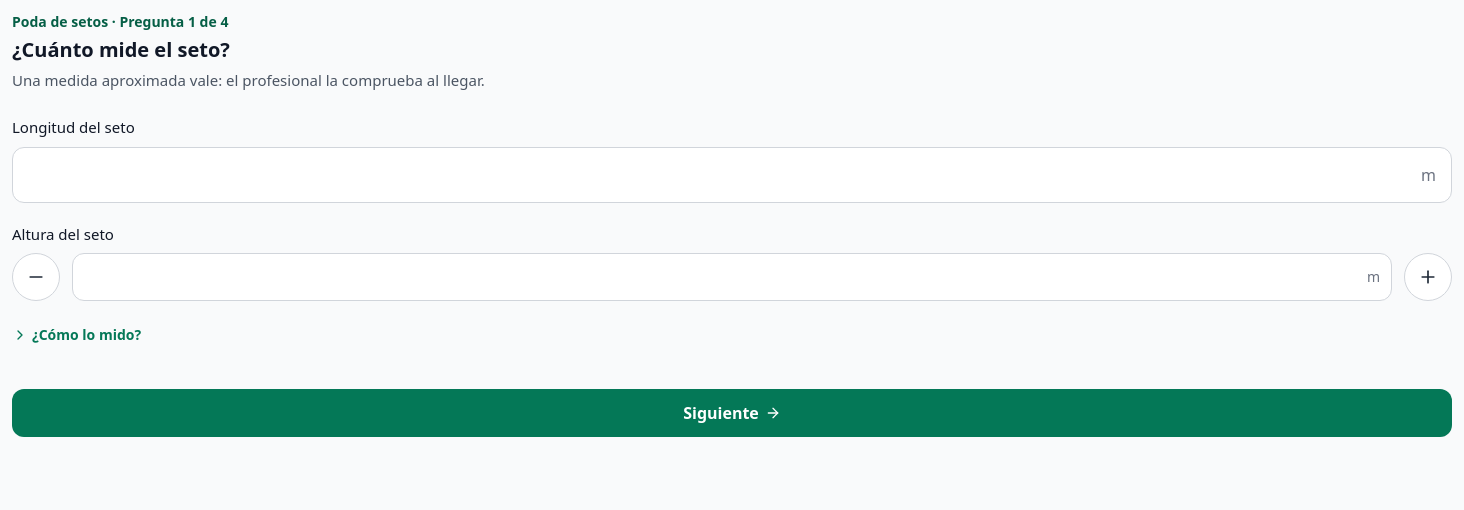
Test: setos · medidas en una pantalla (D-05) › con las dos medidas vacías: un error por campo y el foco en la longitud
Click the button "Siguiente". click: [732, 413]
box: [12,389,1452,437]
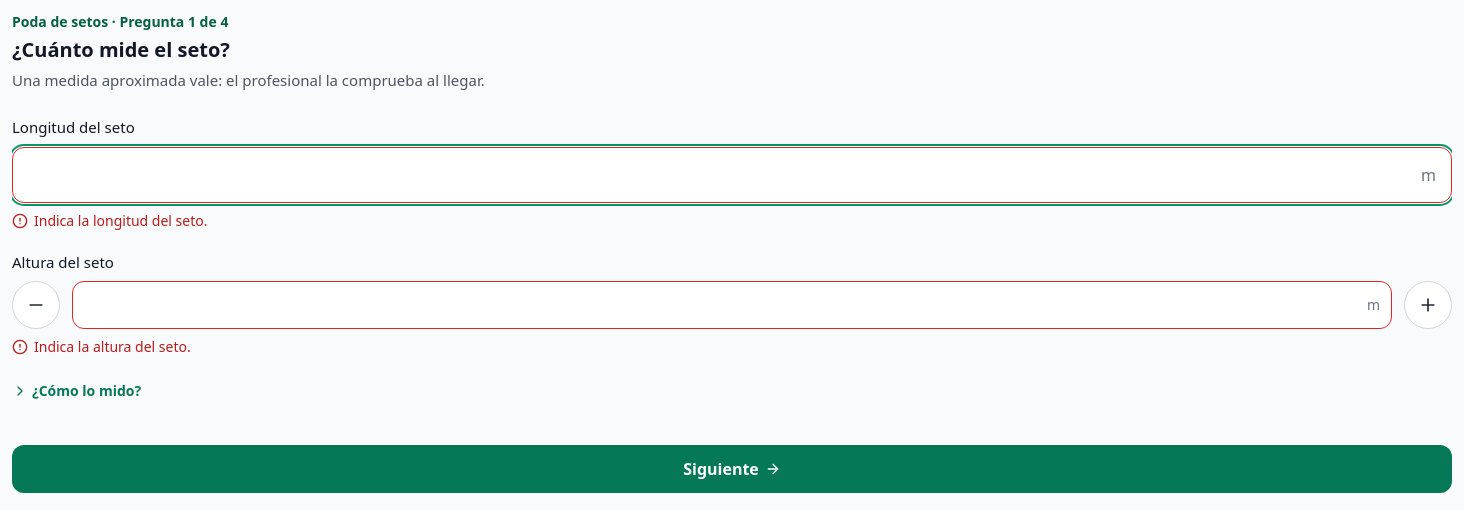
Check: the text "Indica la longitud del seto." is shown, box [34,210,208,230]
Check: the text "Indica la altura del seto." is shown, box [34,337,191,357]
